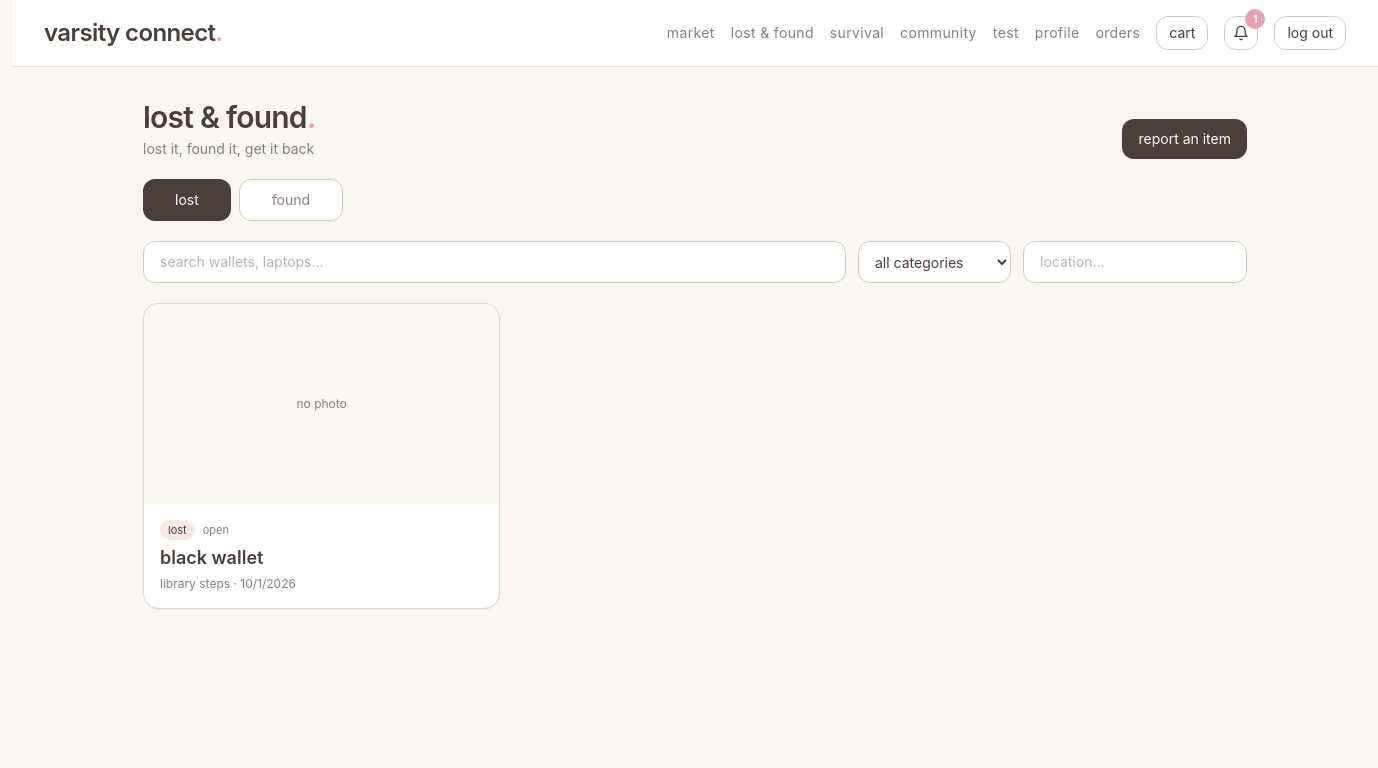
lost and found page › opens on lost with tabs that sync the url
This screenshot has width=1378, height=768.
expect the text "black wallet" is shown: met, box [160,547,263,568]
expect the text "silver laptop" is not shown: met
Click the tab "found".
click(291, 200)  # box [239,179,343,221]
(page scrolled)
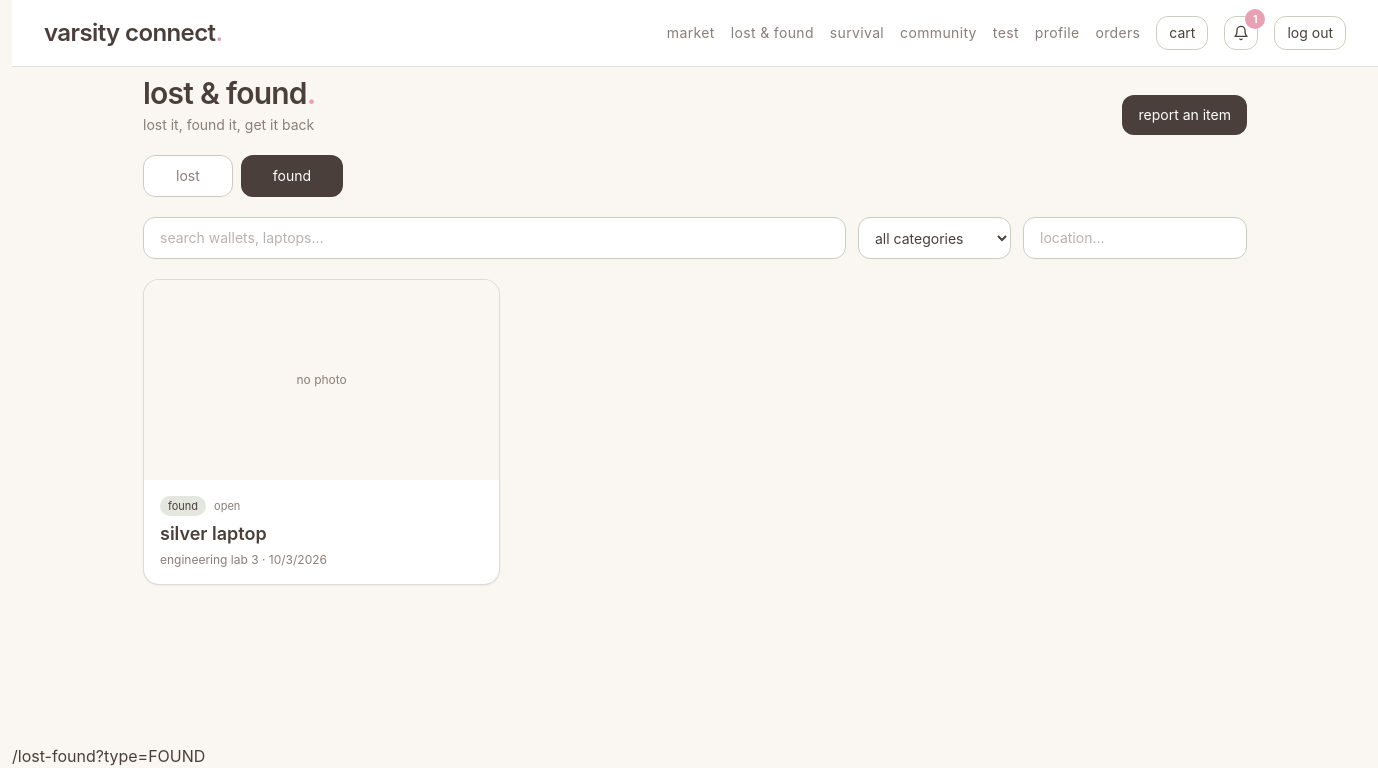
expect the text "silver laptop" is shown: met, box [160,523,267,544]
expect the text with test id "location" shows "type=FOUND": met, box [12,746,205,766]
expect the link "black wallet" is gone: met
